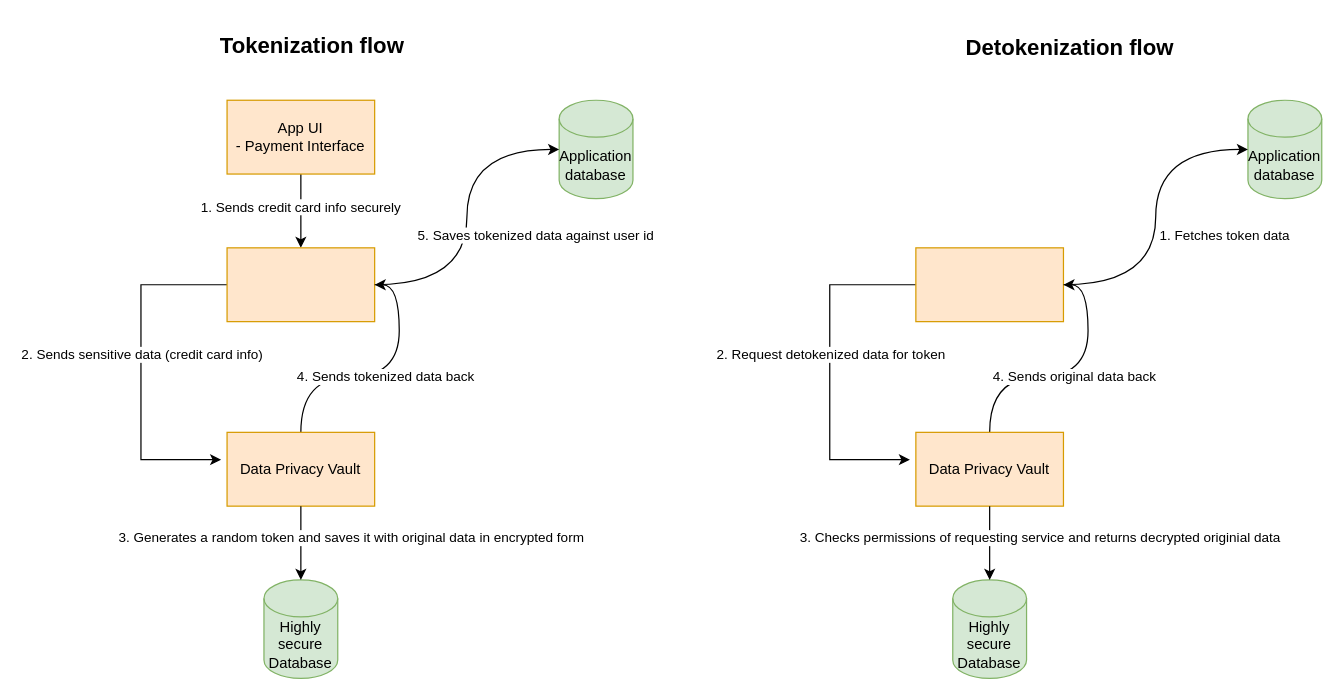
The diagram is 1343 pixels wide and 700 high, and some of its shapes have lost their labels. Here are the shapes that lost their labels. From the top down, the box of each, then its label:
(226, 247, 375, 322): Server
(915, 247, 1063, 322): Some service
